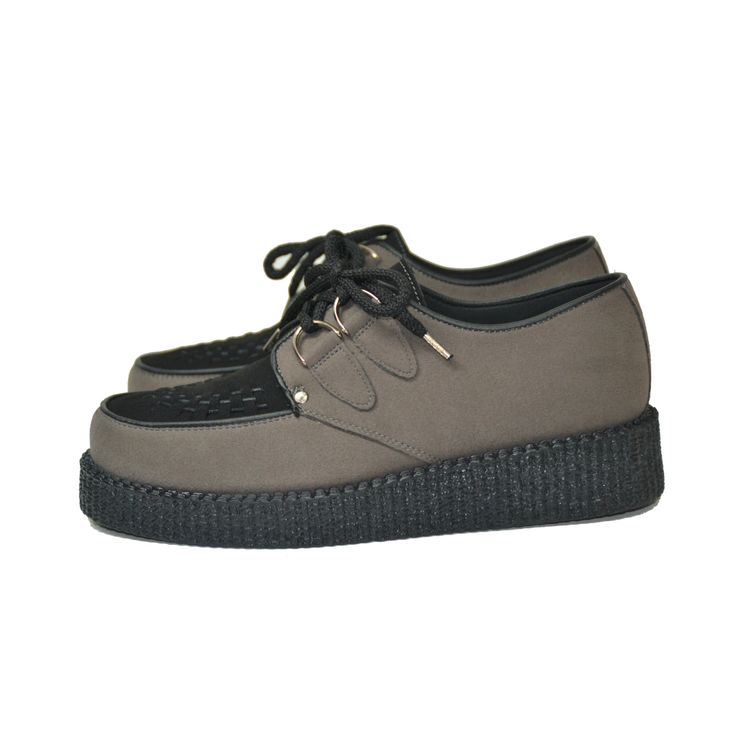gamuza: (90, 222, 653, 492)
